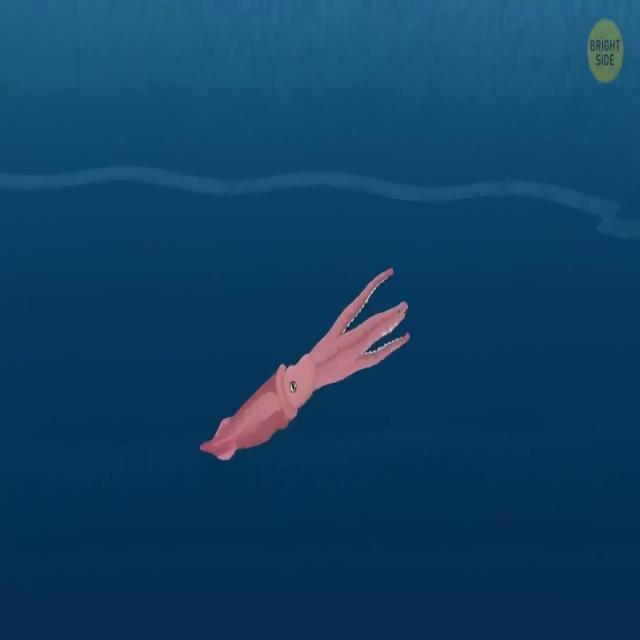squid: (199, 272, 409, 462)
